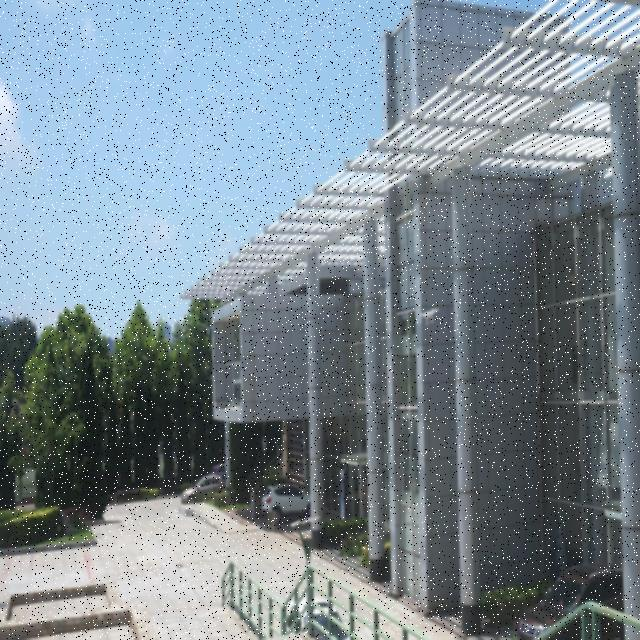UAV: (420, 308, 440, 325)
